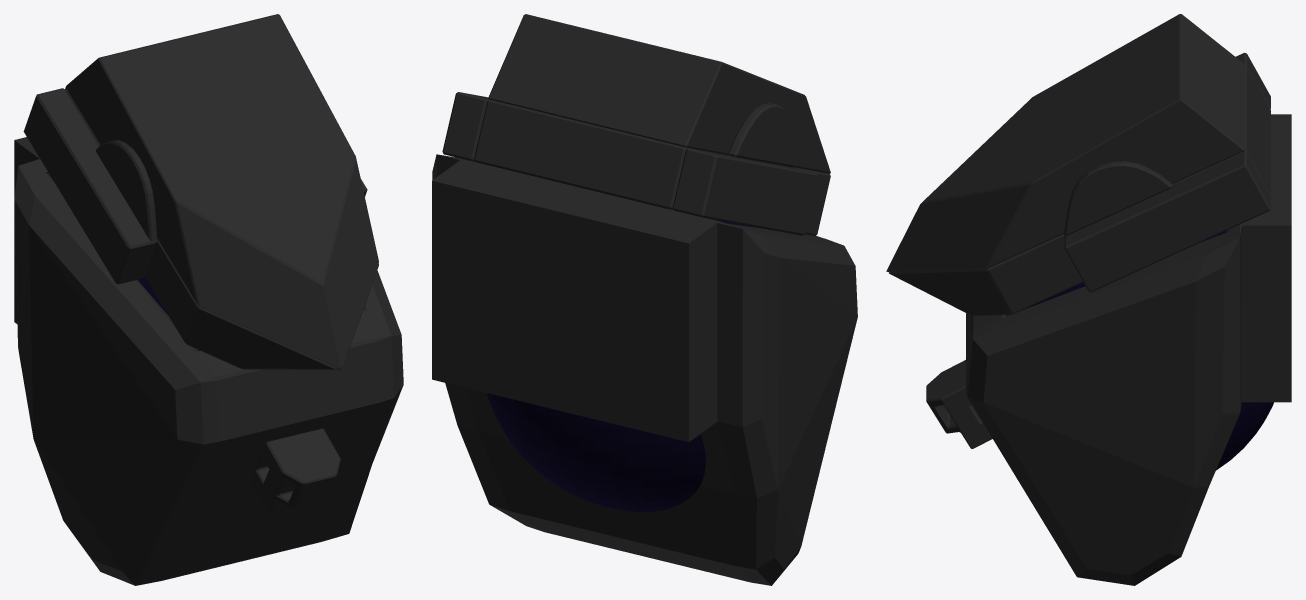
Rendered from 40modelRiging_HachUnits.fbx.
3 views of the same model, side by side, from view 1: azimuth 30°, elevation 25°; view 2: azimuth 150°, elevation 25°; view 3: azimuth 270°, elevation 25° (orthographic). The views are drawn at different scales.
Visible parts, largest first — view 1: UpperBody.001, CockpitCover; view 2: UpperBody.001, CockpitCover, Cockpit_Main; view 3: UpperBody.001, CockpitCover, Cockpit_Main.
Boxes of the visible parts, left/top/right/bottom form: UpperBody.001: left=14, top=137, right=403, bottom=585; CockpitCover: left=23, top=14, right=378, bottom=369; UpperBody.001: left=432, top=154, right=857, bottom=585; CockpitCover: left=442, top=14, right=830, bottom=236; Cockpit_Main: left=487, top=219, right=762, bottom=511; UpperBody.001: left=926, top=114, right=1291, bottom=585; CockpitCover: left=886, top=14, right=1270, bottom=316; Cockpit_Main: left=1028, top=231, right=1273, bottom=470.
Size of the model in its own units: 1.71 by 1.43 by 2.22.
